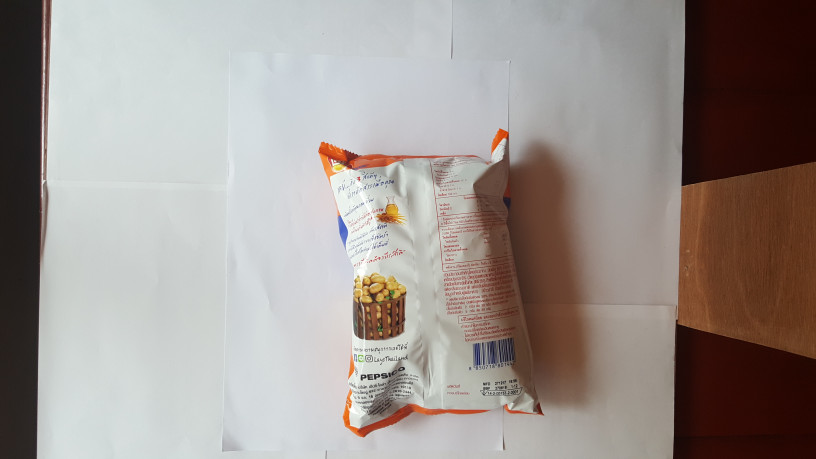lays-bbq: (312, 117, 552, 447)
